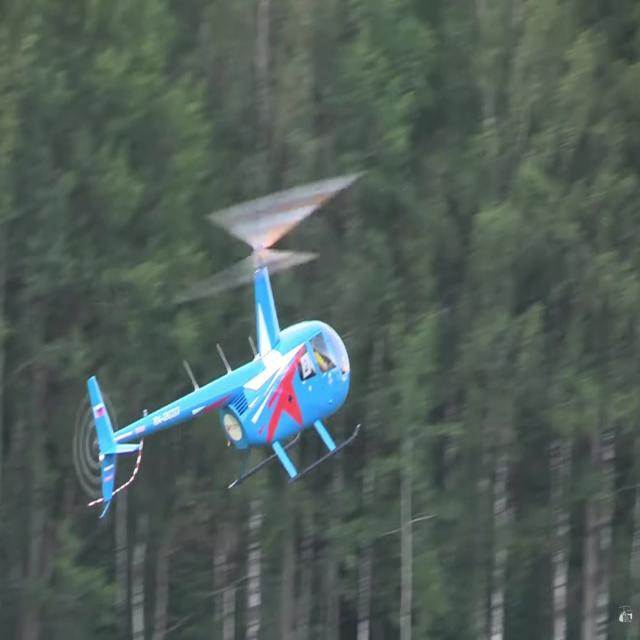CIV_HELO: (87, 243, 361, 507)
